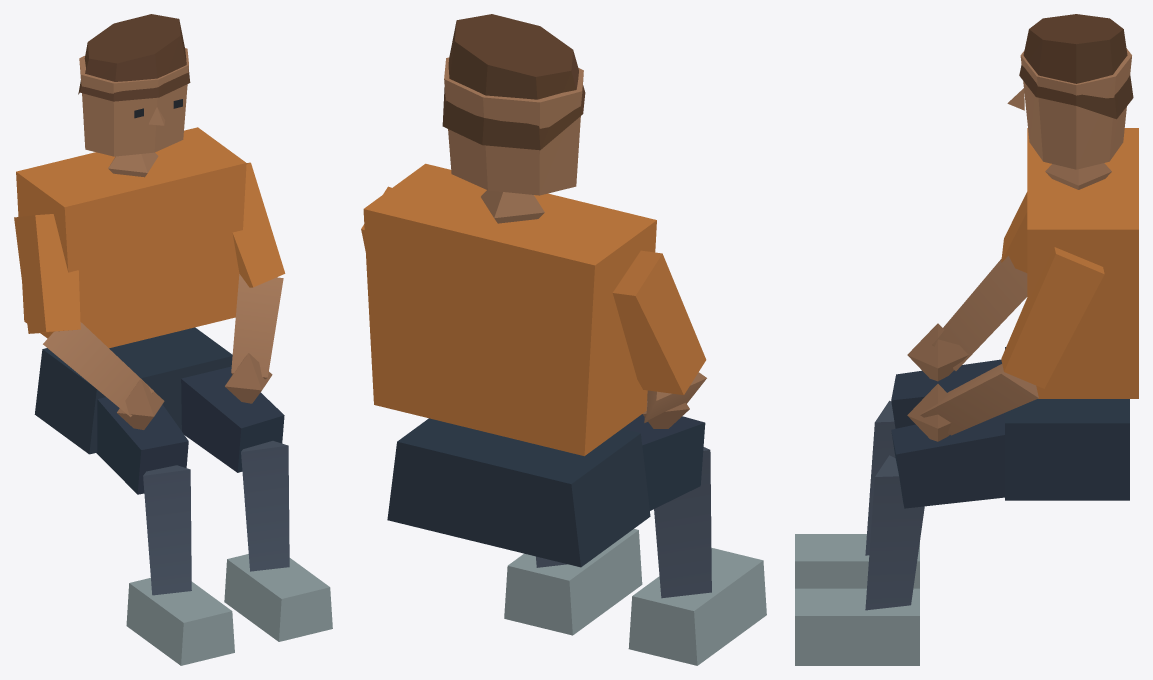
File: fan-09.glb
3 renders of one model, left to right at view 1: azimuth 30°, elevation 25°; view 2: azimuth 150°, elevation 25°; view 3: azimuth 270°, elevation 25°, orthographic. The views are drawn at different scales.
Parts seen in each view (by area): view 1: fan-09; view 2: fan-09; view 3: fan-09.
Part boxes in pixels (bbox=[...]): fan-09: bbox=[14, 14, 332, 665]; fan-09: bbox=[361, 14, 766, 665]; fan-09: bbox=[795, 14, 1138, 665].
Size of the model in its own units: 0.7147 by 1.49 by 0.77.
